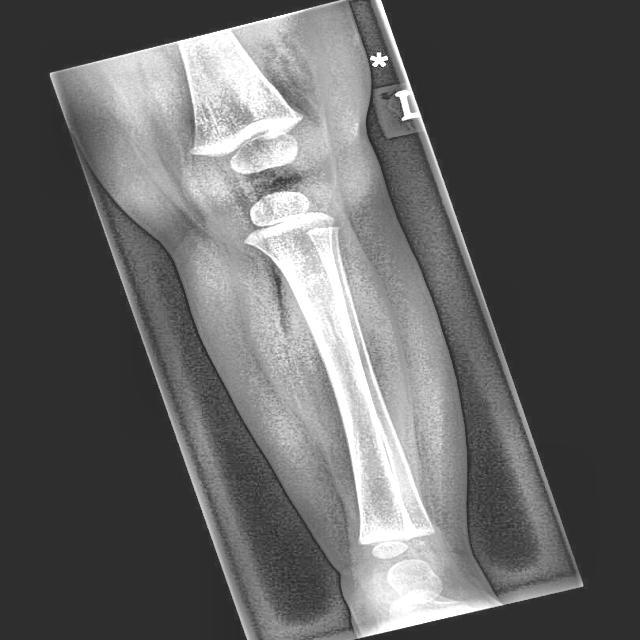fracture: (356, 444, 362, 510)
